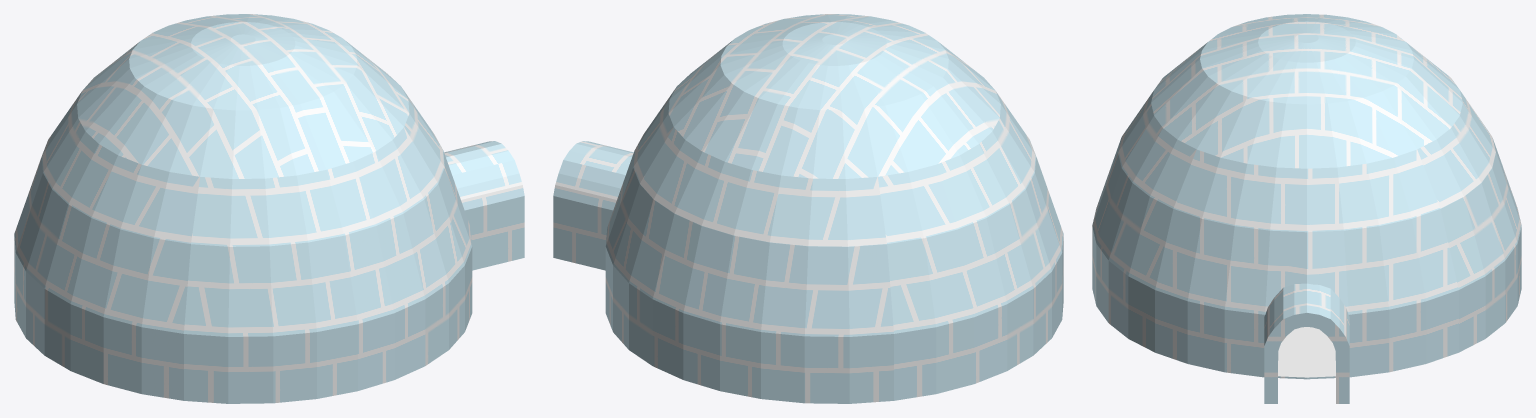
File: igloo.fbx
3 renders of one model, left to right at view 1: azimuth 30°, elevation 25°; view 2: azimuth 150°, elevation 25°; view 3: azimuth 270°, elevation 25°, orthographic. The views are drawn at different scales.
Visible parts, largest first — view 1: Circle; view 2: Circle; view 3: Circle.
Part boxes in pixels (<box>): Circle: <box>14,14,524,403</box>; Circle: <box>553,14,1063,403</box>; Circle: <box>1092,14,1521,403</box>.
Size of the model in its own units: 182 by 102 by 158.
1 material, 1 textured.
